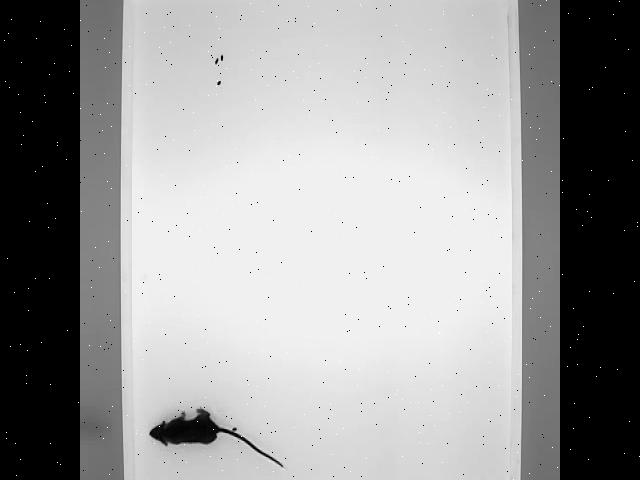Tikus: (146, 404, 286, 469)
